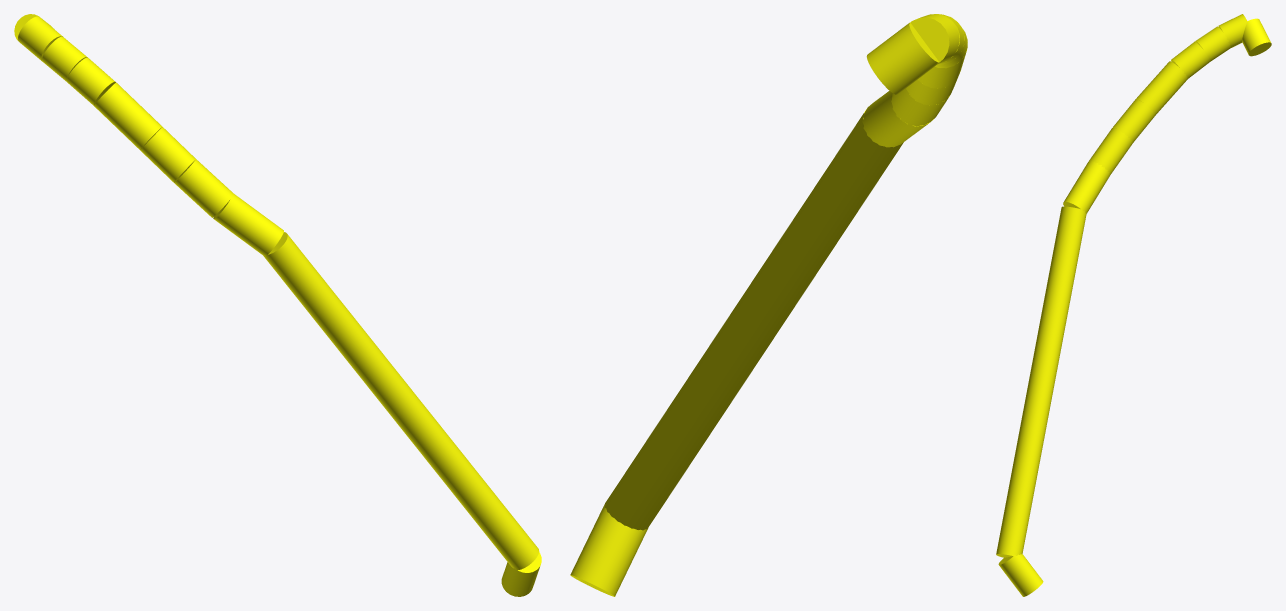
The picture shows the model from 3 angles, left to right: view 1: azimuth 30°, elevation 25°; view 2: azimuth 150°, elevation 25°; view 3: azimuth 270°, elevation 25°; orthographic projection. The views are drawn at different scales.
Visible parts, largest first — view 1: Cylinder(Clone) (×9); view 2: Cylinder(Clone) (×8); view 3: Cylinder(Clone) (×10).
Part boxes in pixels (box(x1,y1,x2,y2)): Cylinder(Clone) (×9): box(18, 16, 541, 596); Cylinder(Clone) (×8): box(570, 14, 967, 596); Cylinder(Clone) (×10): box(996, 14, 1271, 596).
Bounding box in the file's own units: 0.1342 × 0.19 × 0.1066.
